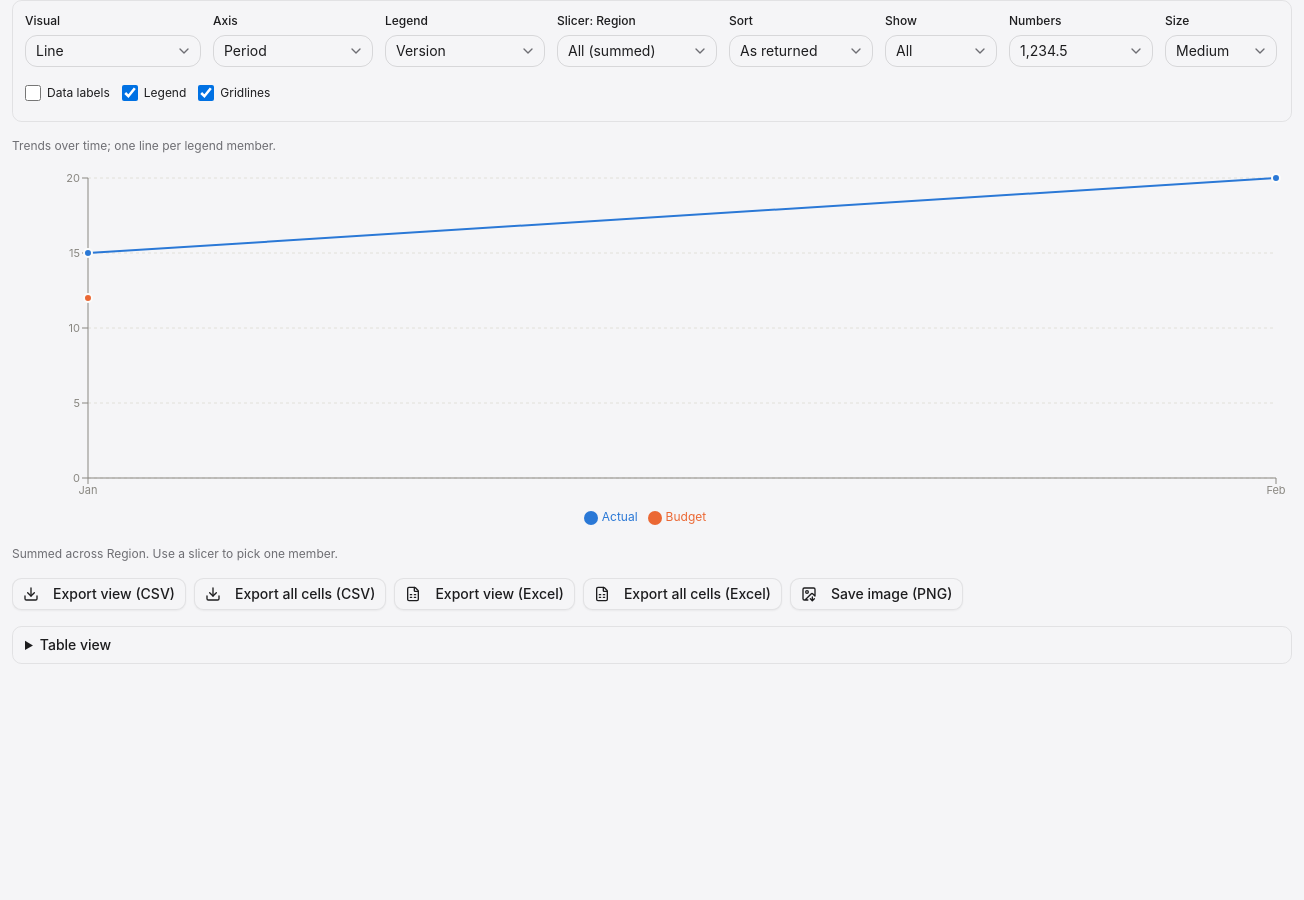
ChartBuilder › slices to one member
Click the dropdown named "Visual".
click(113, 51)  # box [25,35,201,67]
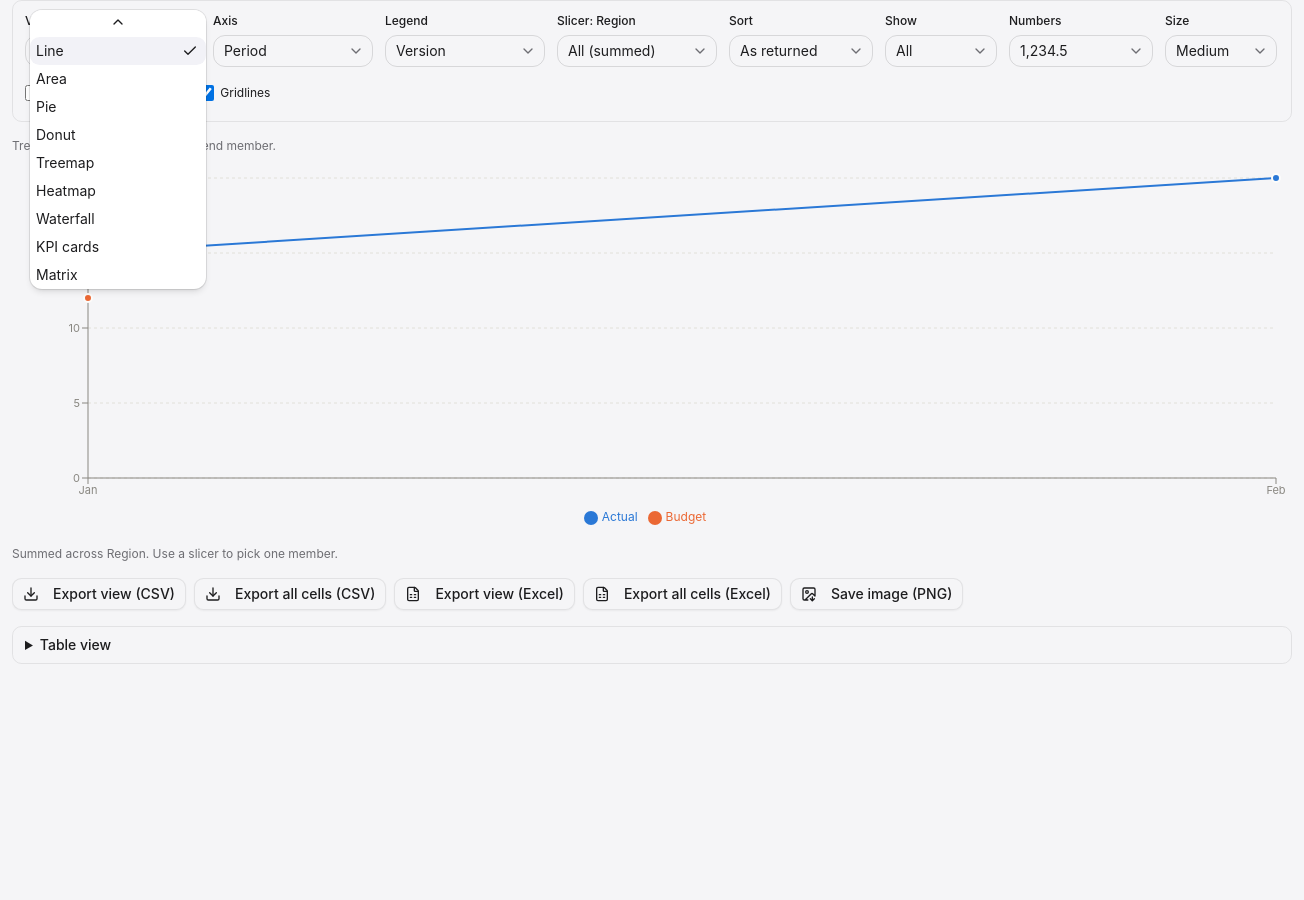
Click the option "Matrix".
click(57, 274)  # box [36,266,78,283]
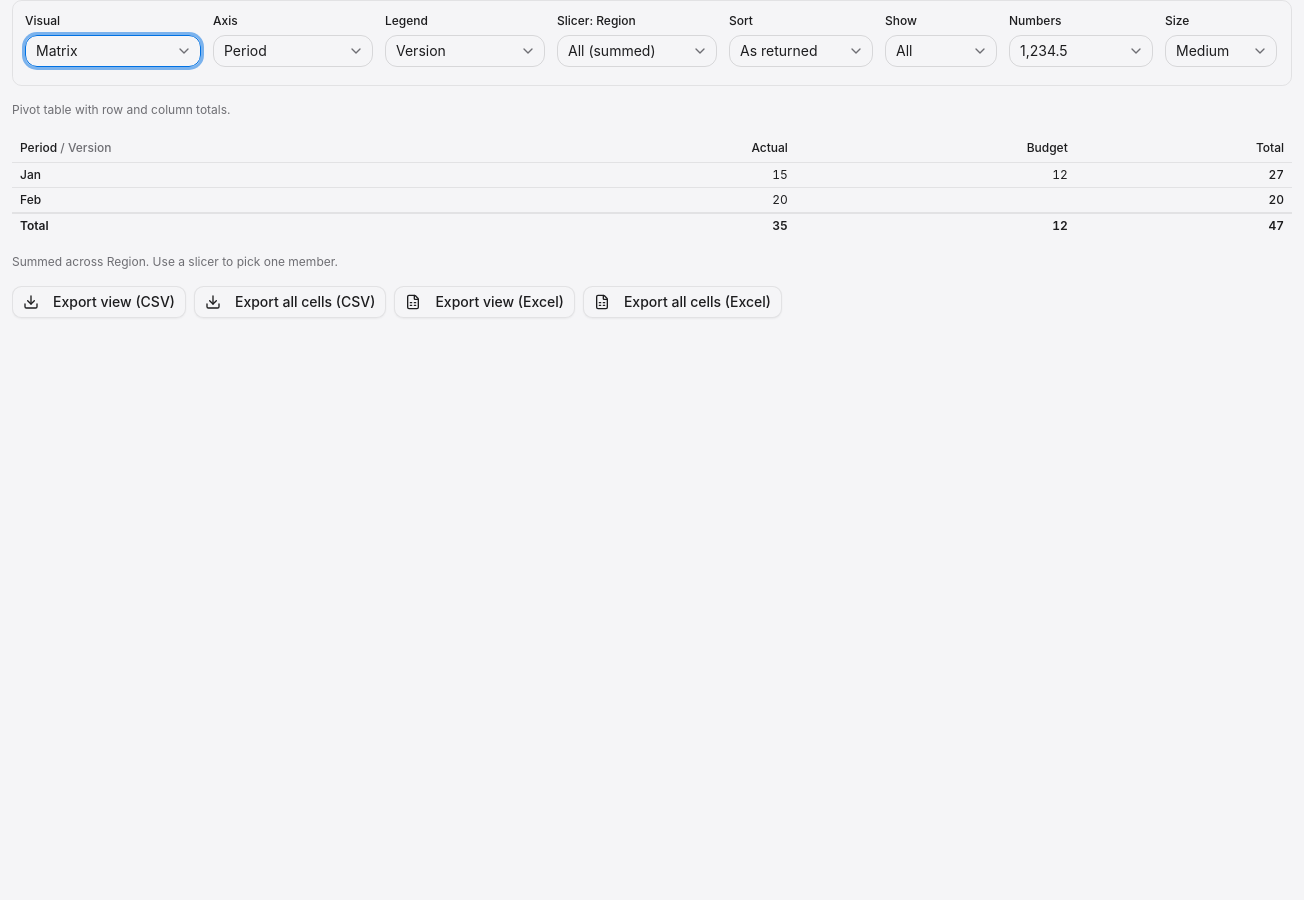
Click the dropdown named "Slicer: Region".
click(637, 51)  # box [557,35,717,67]
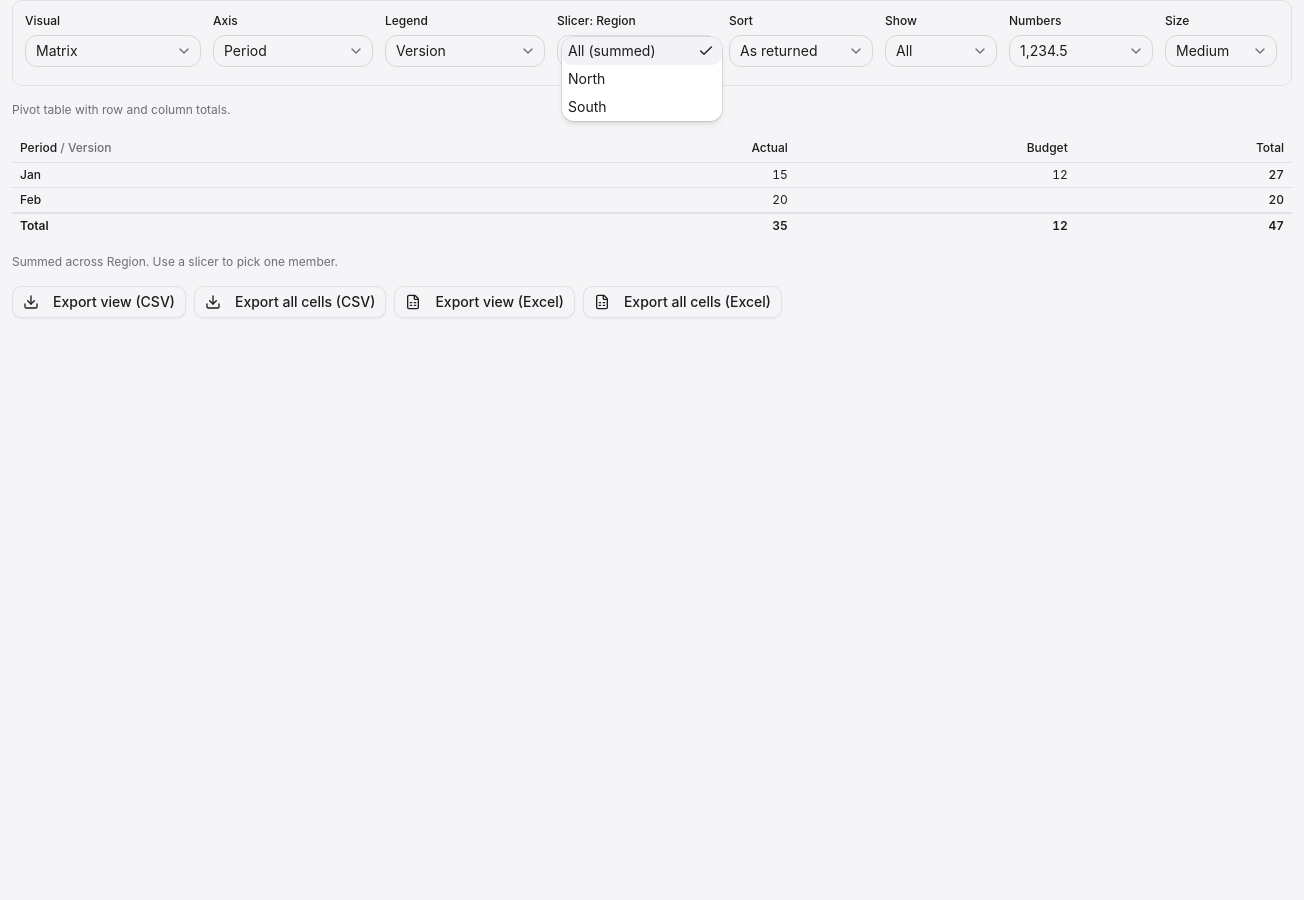
Click the option "South".
click(587, 106)  # box [568,98,606,115]
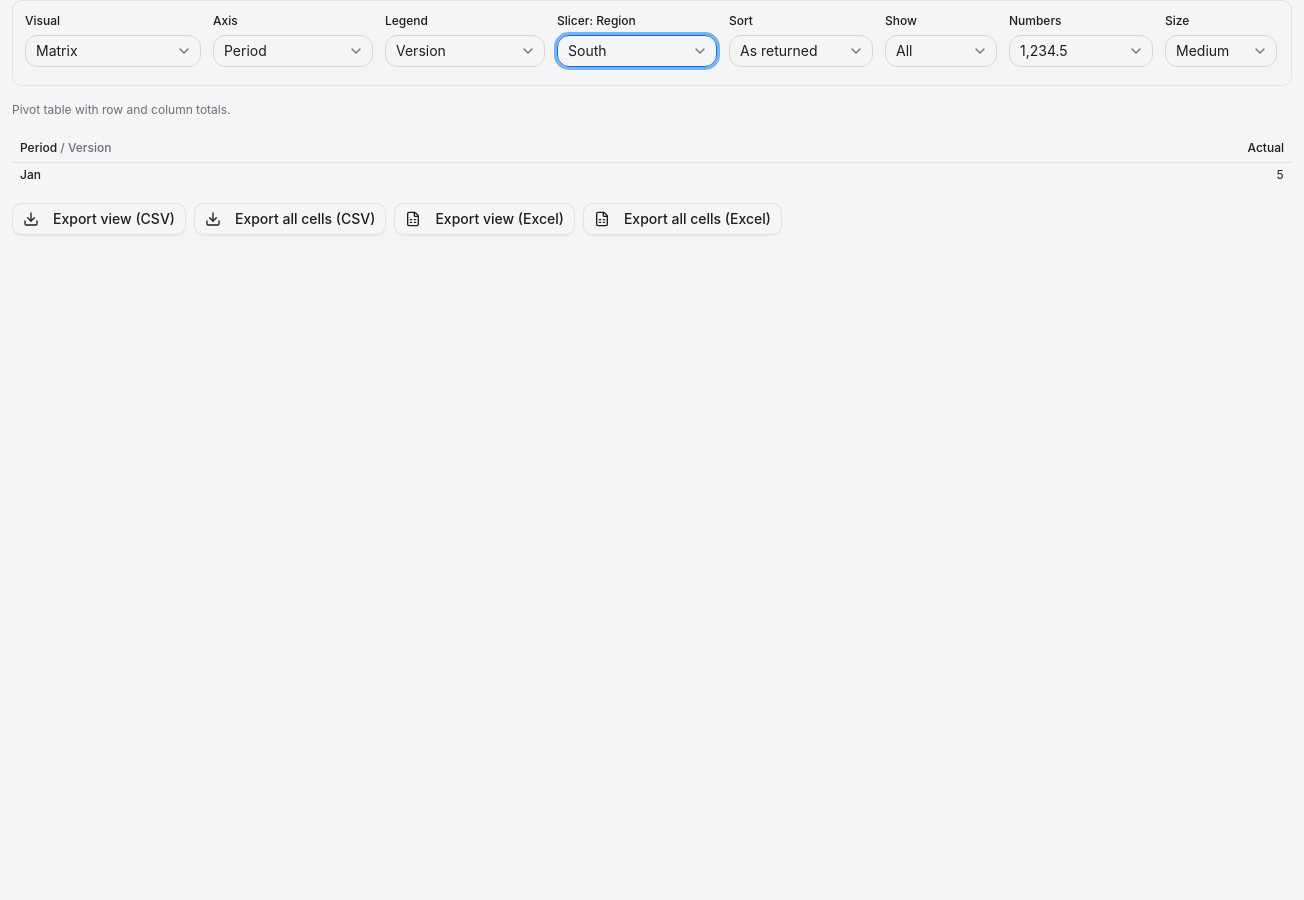
Expected: the text "Jan" shows "5", [1276,167,1284,182]
Expected: the list item "Summed across Region" is gone
